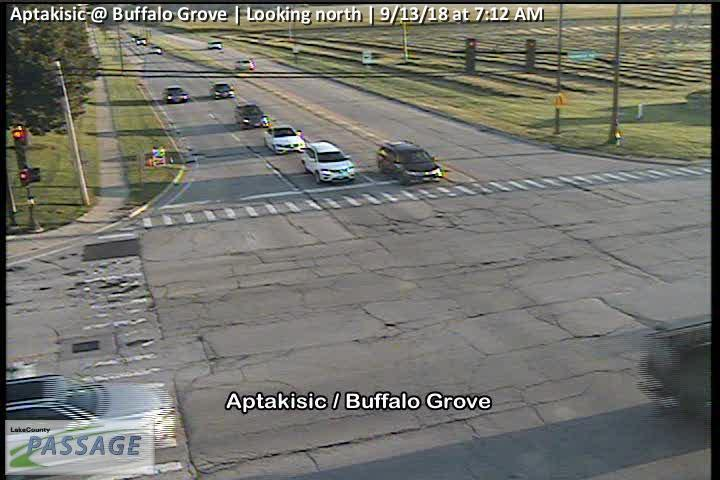SUV: (1, 374, 171, 452), (376, 140, 441, 186), (301, 140, 355, 183), (207, 39, 222, 49)
Sedan: (264, 124, 305, 155), (234, 103, 269, 129), (163, 85, 190, 104), (210, 83, 236, 99), (234, 58, 254, 71)
